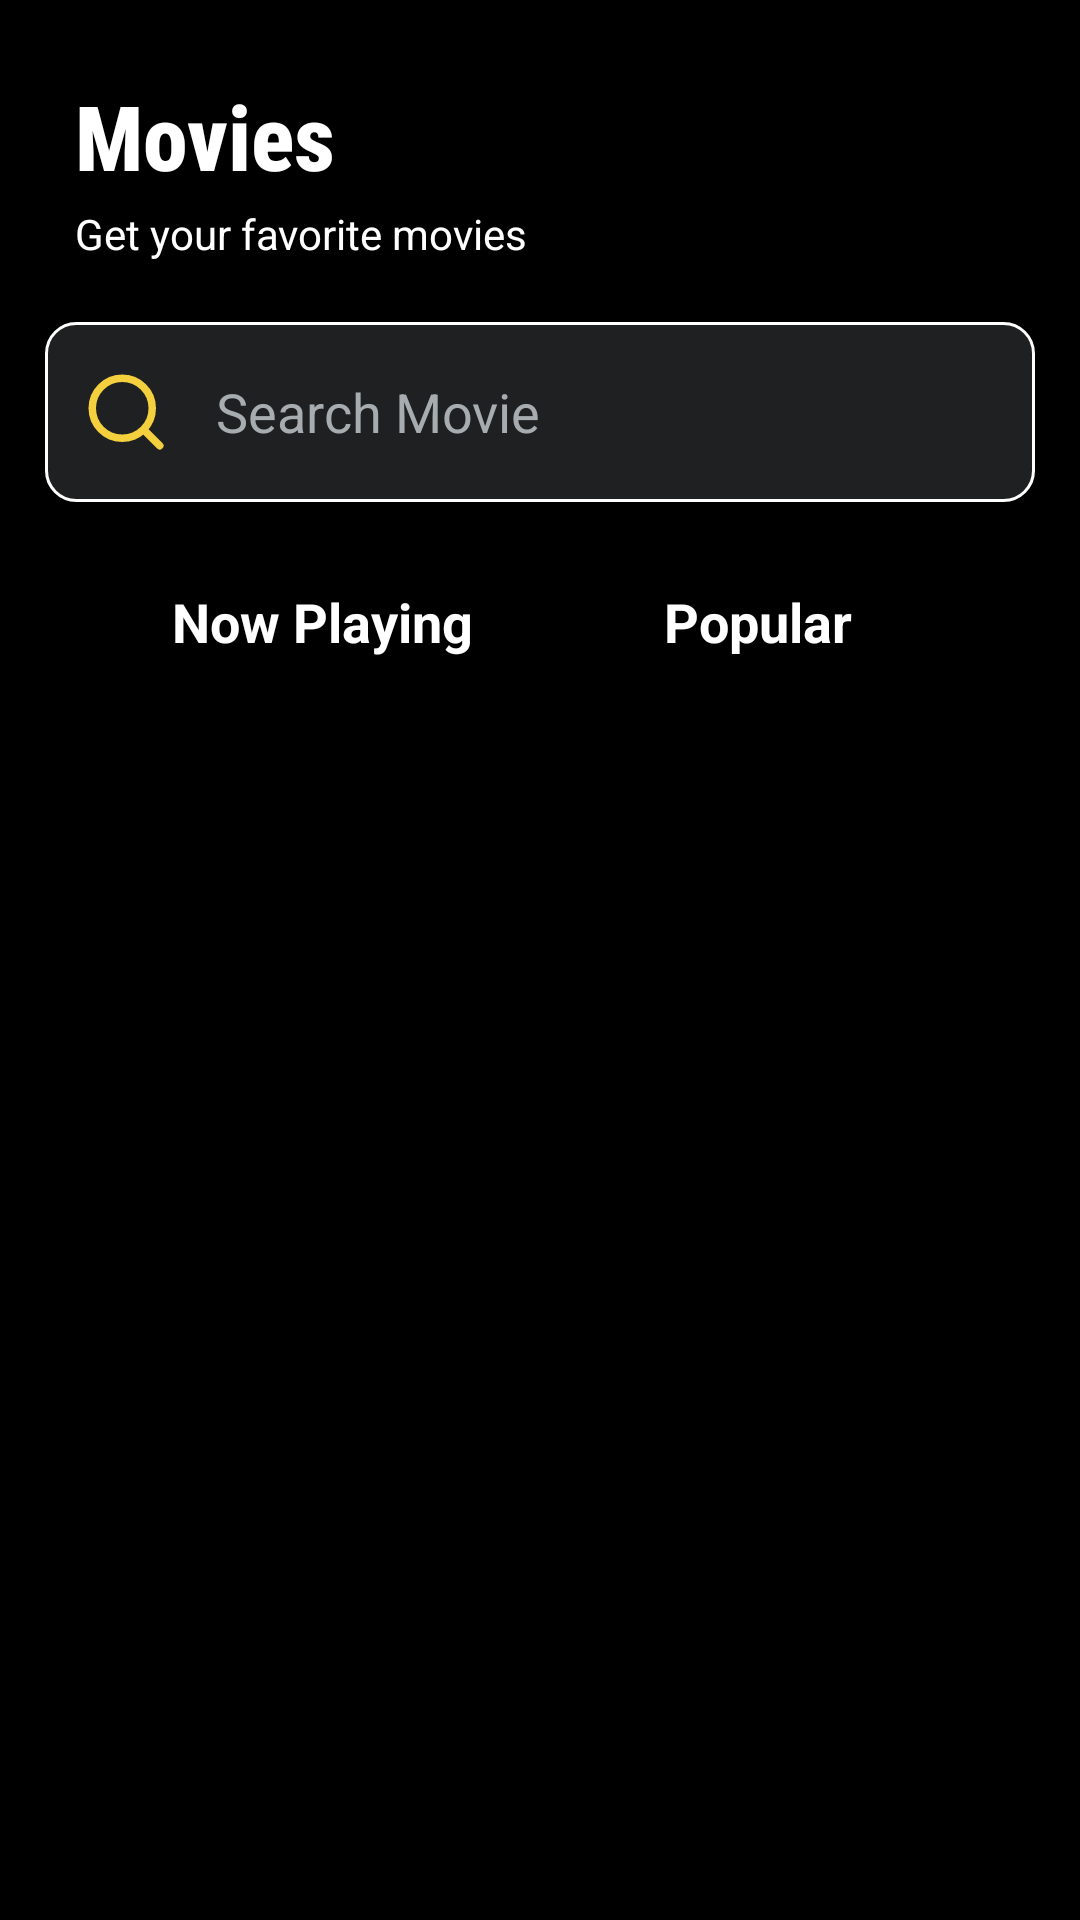

Where icons sit on this 1080 × 1920 app screen, as (x1, y1, x2, y2):
searchicon: (88, 374, 164, 450)
